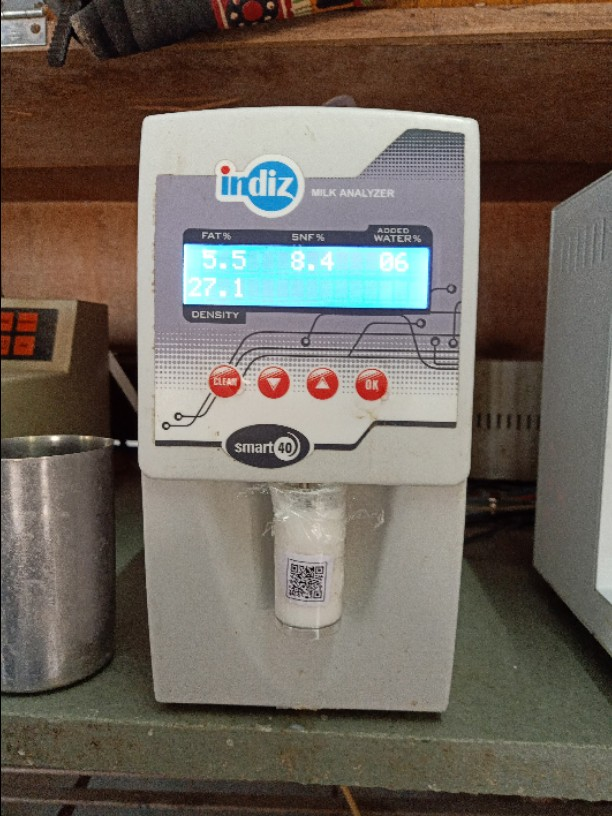lcd: (179, 234, 437, 324)
qr: (282, 556, 333, 605)
